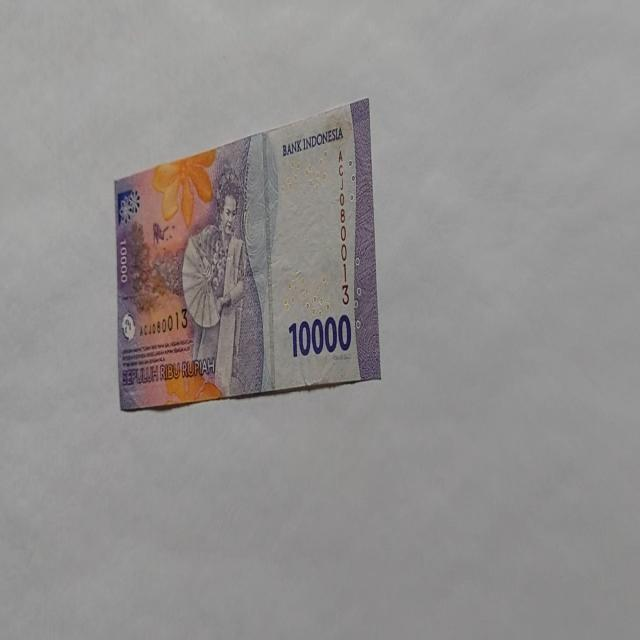sepuluh ribu rupiah: (113, 96, 381, 412), (280, 124, 344, 158)
